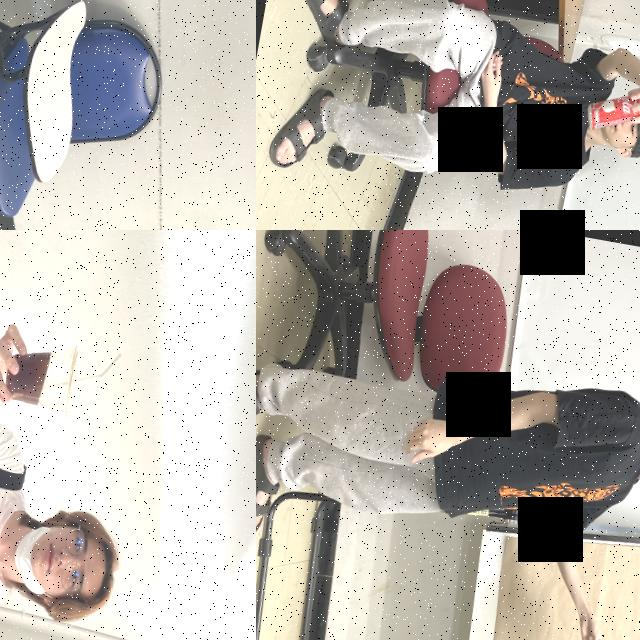can: (582, 83, 640, 138)
cup: (0, 333, 82, 419)
